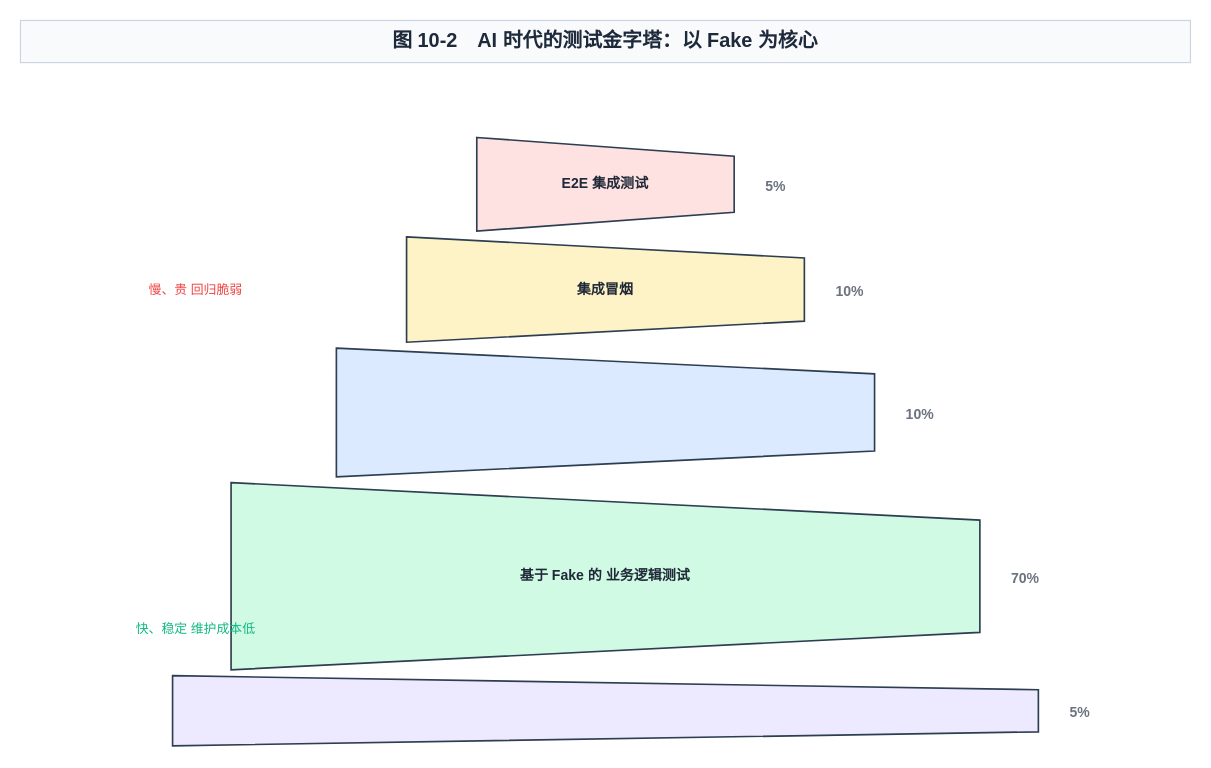
The diagram is 1211 pixels wide and 768 high, and some of its shapes have lost their labels. The shapes that lost their labels are listed below. From the top down, each one's centre as x and y in pixels, then its label:
At point 605,412: "纯单元".
At point 605,710: "Fake 基础设施".
